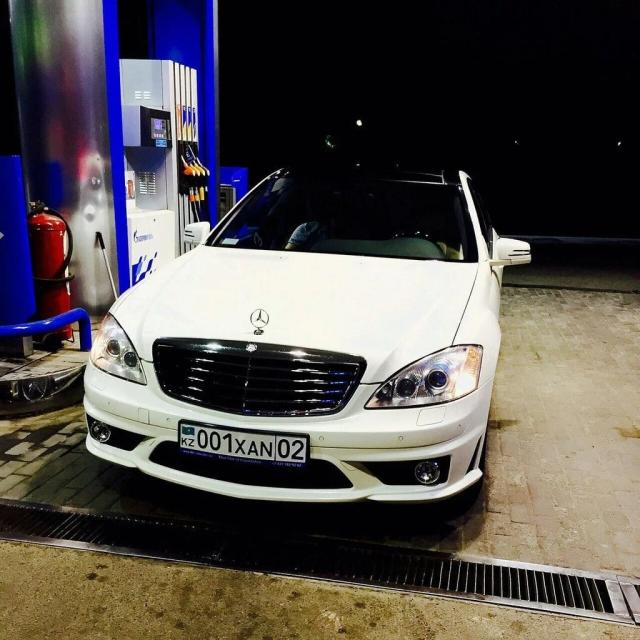car: (82, 159, 532, 508)
license: (177, 420, 309, 466)
